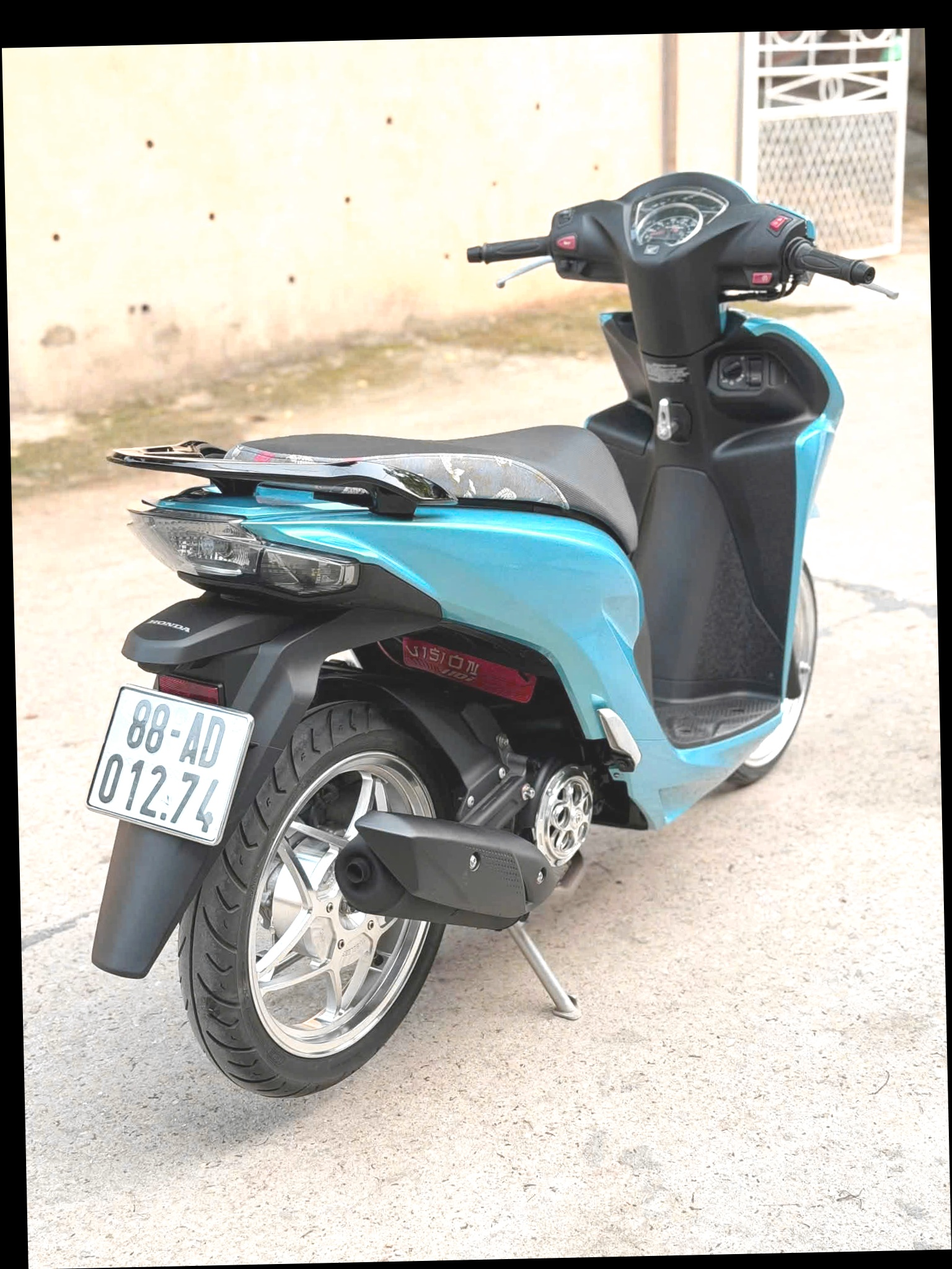Bien-so: (61, 629, 244, 803)
